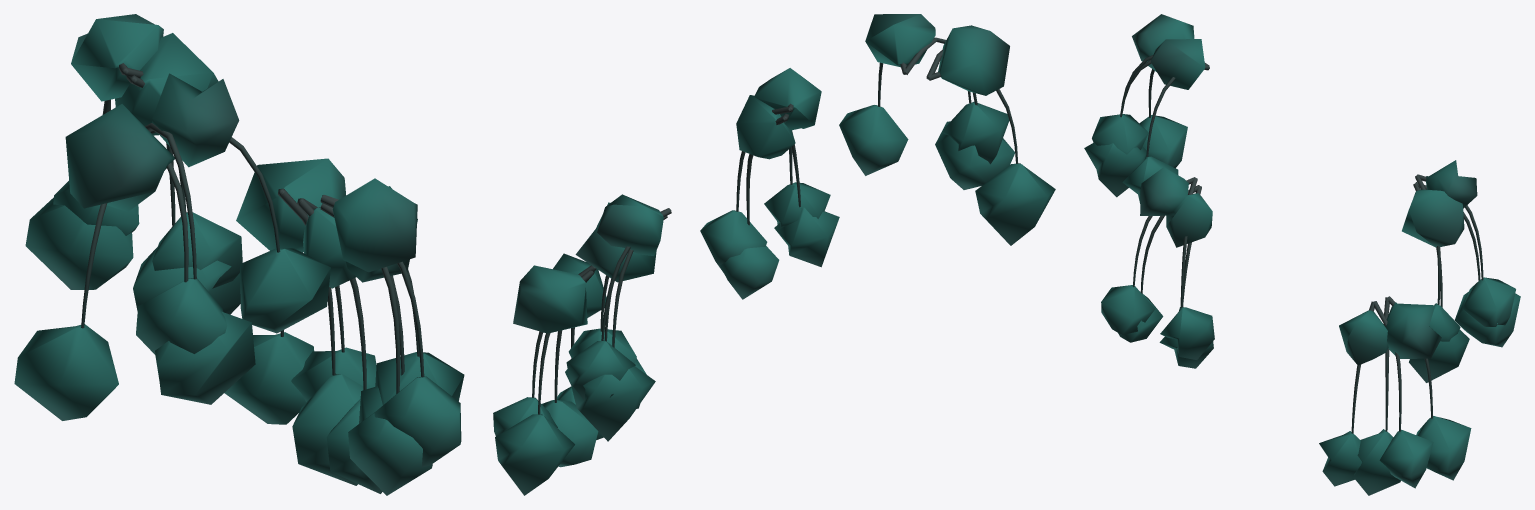
The picture shows the model from 3 angles, left to right: view 1: azimuth 30°, elevation 25°; view 2: azimuth 150°, elevation 25°; view 3: azimuth 270°, elevation 25°; orthographic projection. The views are drawn at different scales.
Parts seen in each view (by area): view 1: fruit.002; view 2: fruit.002; view 3: fruit.002.
Part boxes in pixels (box(x1,y1,x2,y2)): fruit.002: box(14, 14, 464, 495); fruit.002: box(493, 14, 1055, 495); fruit.002: box(1084, 14, 1520, 495).
Size of the model in its own units: 0.4546 by 0.4555 by 0.5.
